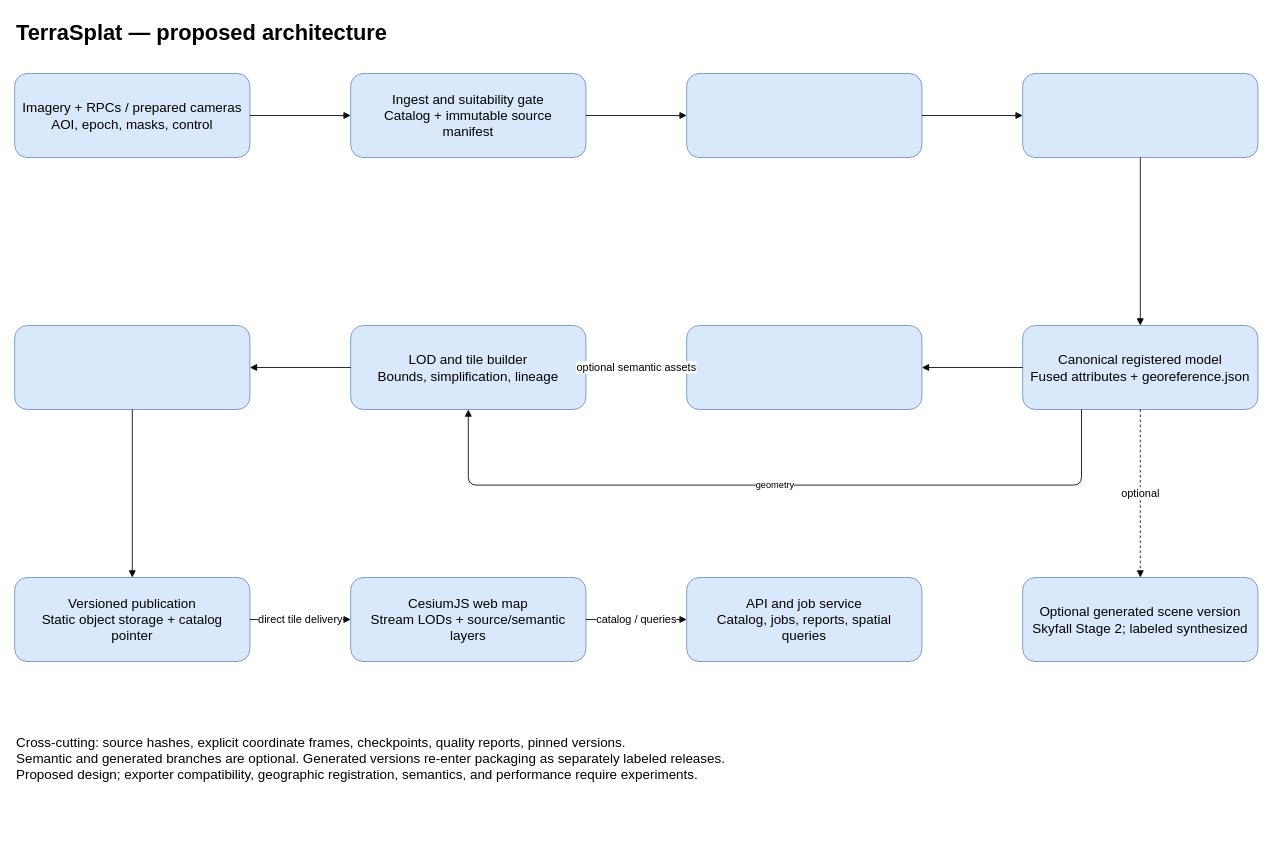
Some shapes in this 1273 by 843 pixel diagram are drawn without their labels. The box of each missing label's shape, as (x1, y1, x2, y2) in pixels:
Calibration and registration Cameras, points, transform chain: (686, 73, 922, 158)
GPU reconstruction Skyfall Stage 1; resumable blocks: (1022, 73, 1258, 158)
Package and validate GLB + tested SPZ profile + tileset.json: (14, 325, 250, 410)
Semantic adapter Classes / language evidence / unknown: (686, 325, 922, 410)
